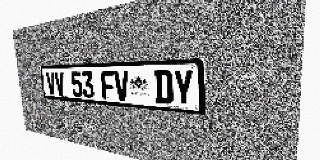3: (81, 71, 94, 98)
5: (71, 71, 83, 97)
D: (154, 70, 173, 105)
F: (101, 71, 115, 100)
V: (114, 71, 130, 101), (54, 72, 65, 96), (46, 72, 56, 95)
Y: (173, 69, 194, 106)
